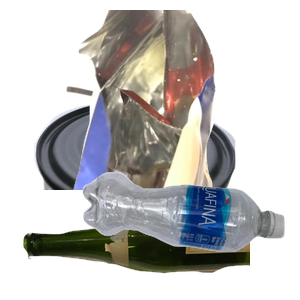glass: (21, 201, 261, 300)
metal: (16, 96, 244, 276)
plastic: (80, 169, 300, 300)
trash: (63, 10, 300, 190)
